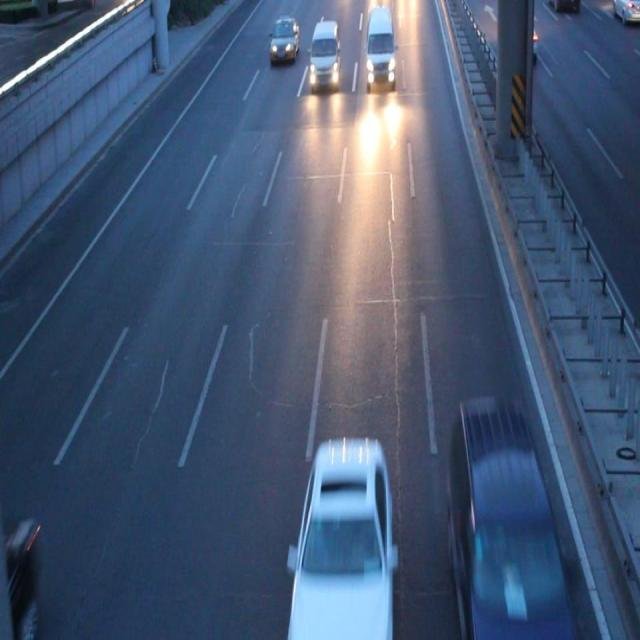car: (292, 443, 390, 631), (269, 18, 299, 60), (502, 18, 537, 53), (548, 1, 577, 13)
truck: (448, 399, 568, 640), (365, 1, 395, 83), (308, 23, 339, 85)
